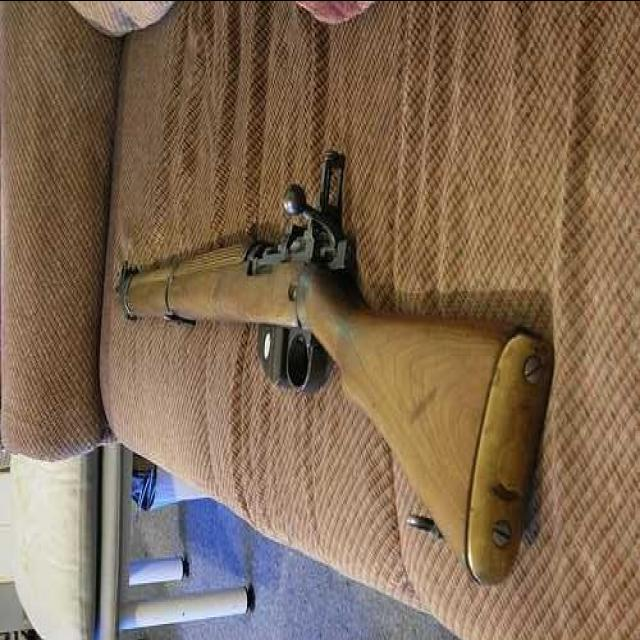heavyweapon: (88, 114, 577, 618)
